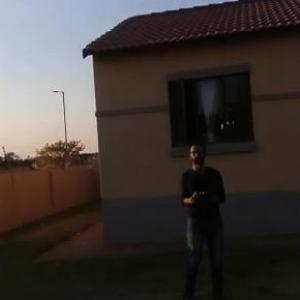follow: (163, 133, 230, 299)
